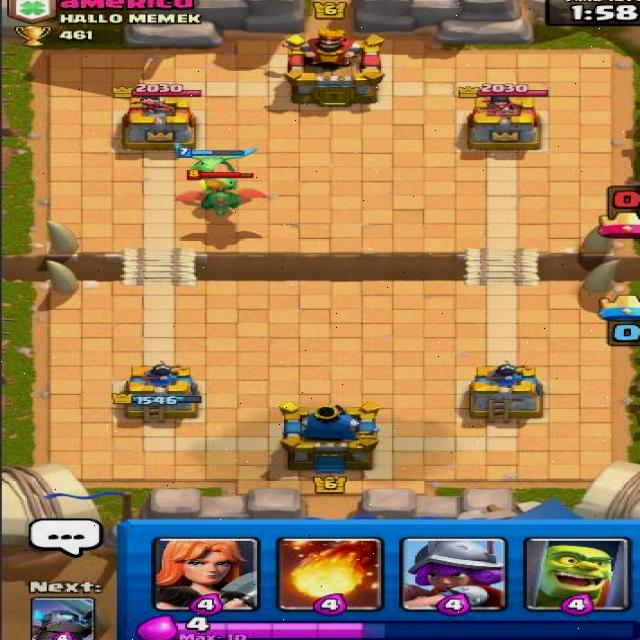Enemy-BabyDragon: (171, 168, 262, 219)
Player-HungryDragon: (170, 140, 260, 184)
